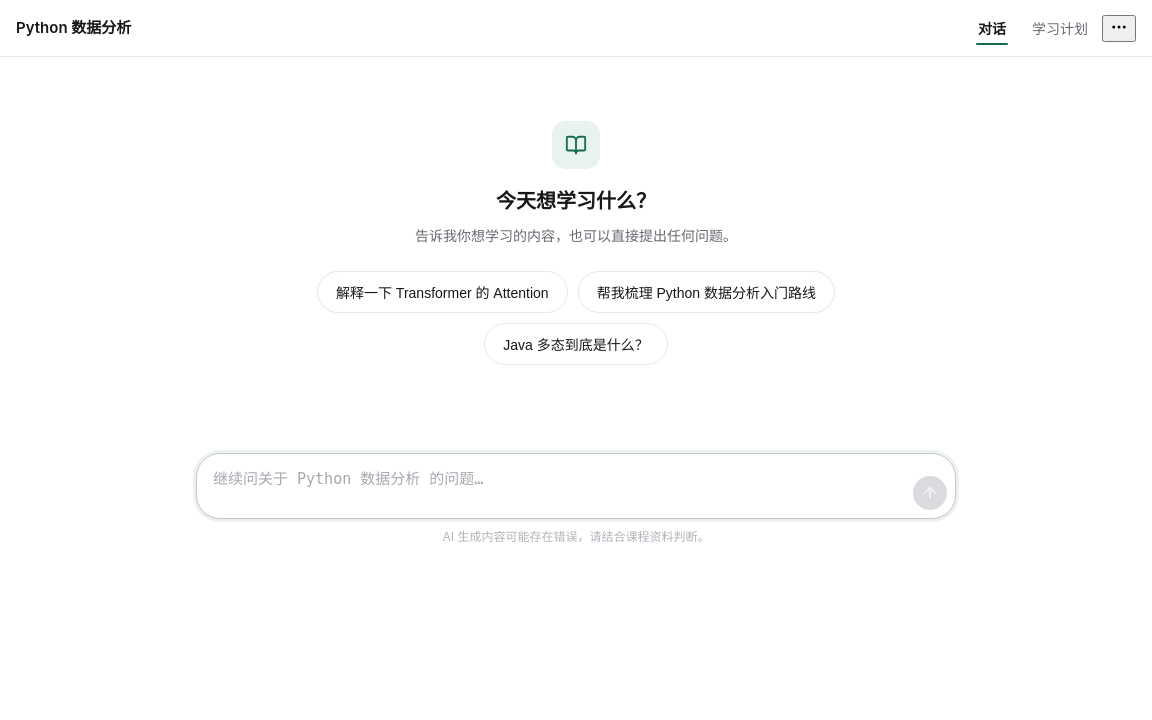
Scenario: ChatPage send / retry › conversation id from reply is used for subsequent sends
This screenshot has width=1152, height=720.
Type "你好" into the text box named "消息输入框" at (559, 486), box [213, 462, 905, 510]
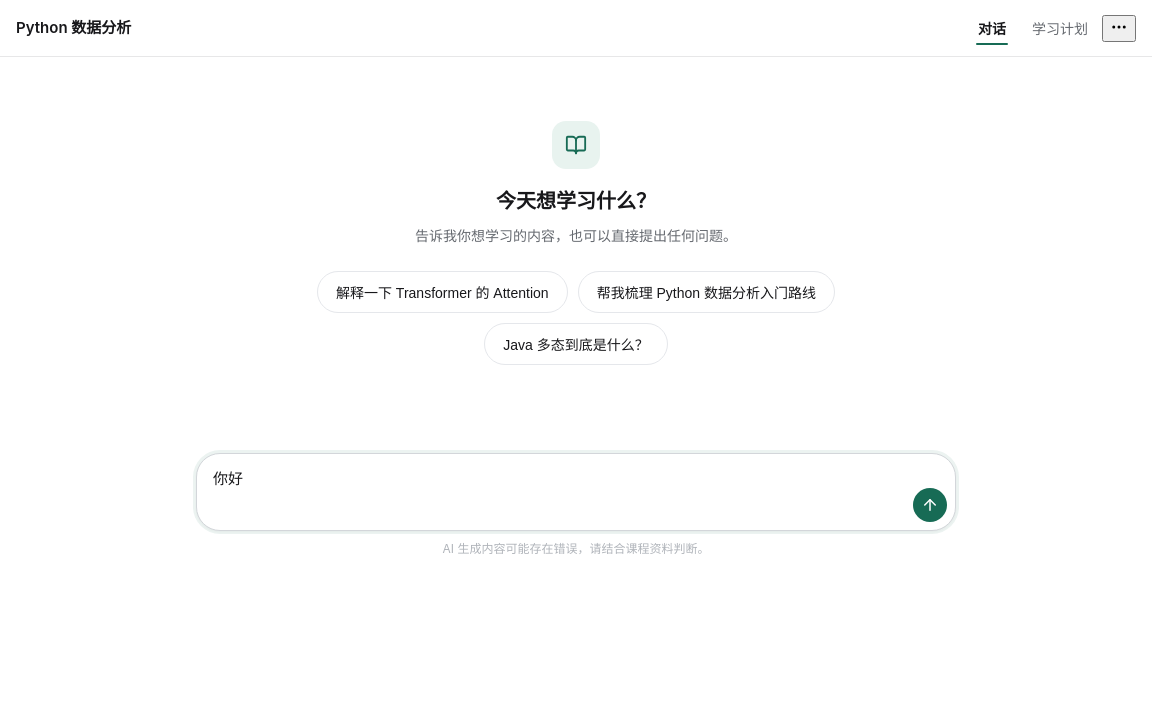
Click the button named "发送" at (930, 505), box [913, 488, 947, 522]
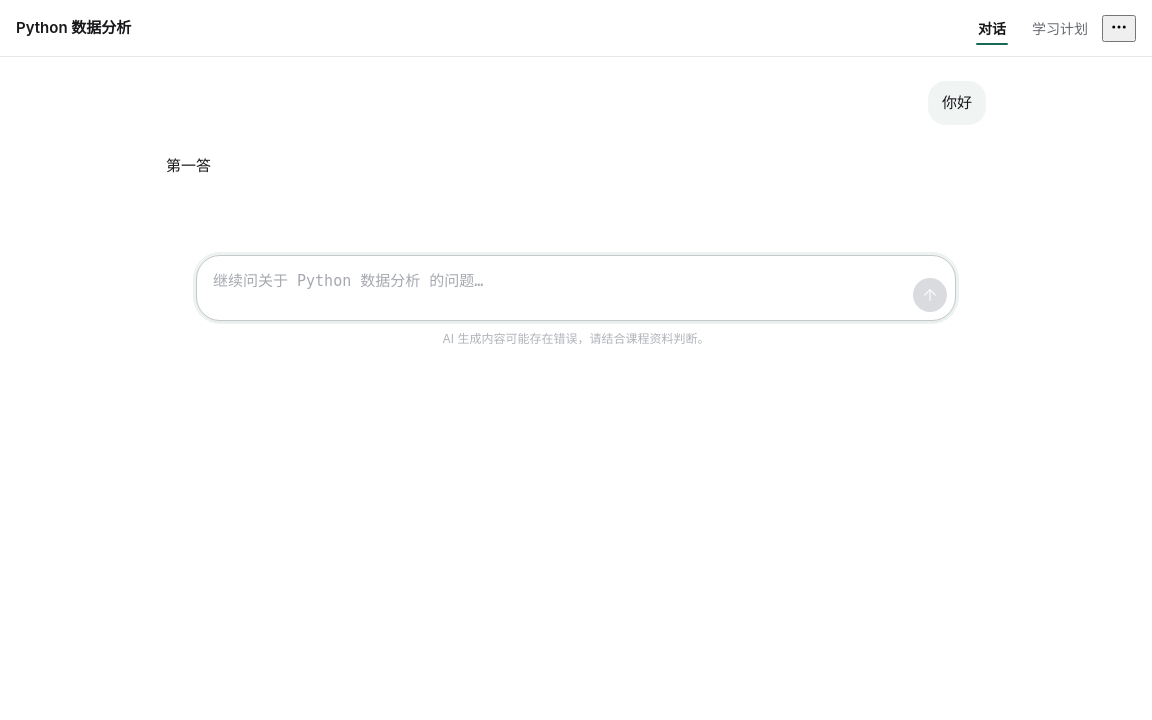
Check: the text "第一答" is shown, box [166, 156, 211, 175]
Type "继续" into the text box named "消息输入框" at (559, 288), box [213, 264, 905, 312]
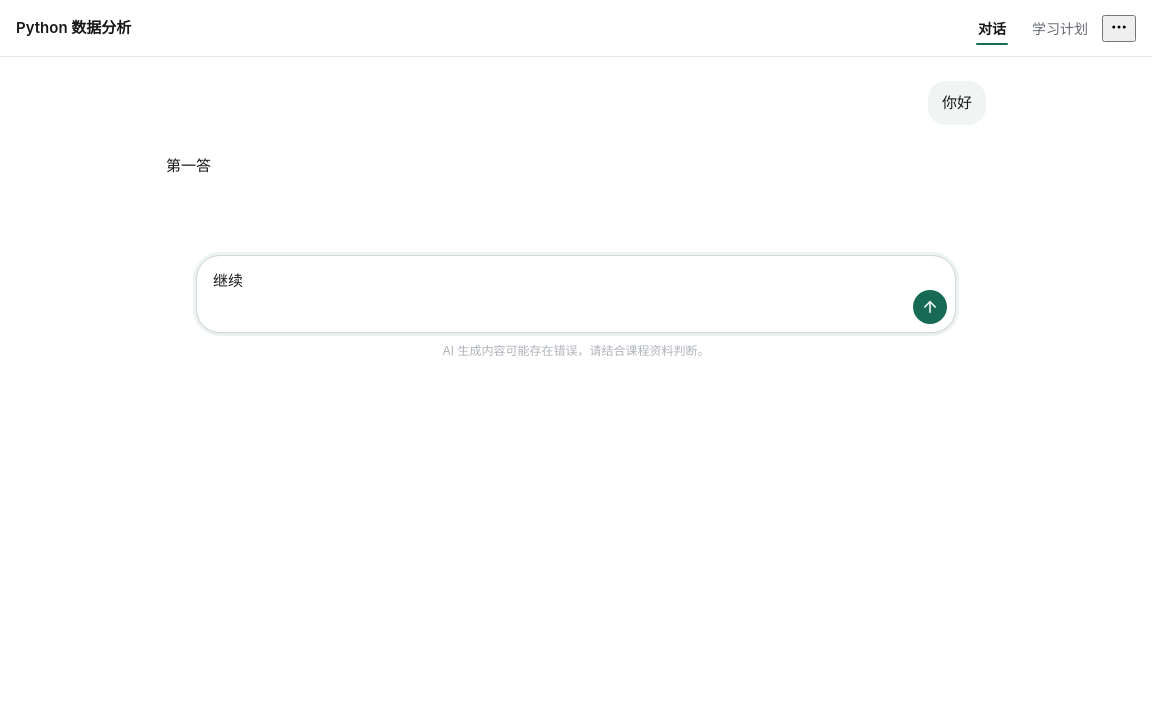
Click the button named "发送" at (930, 307), box [913, 290, 947, 324]
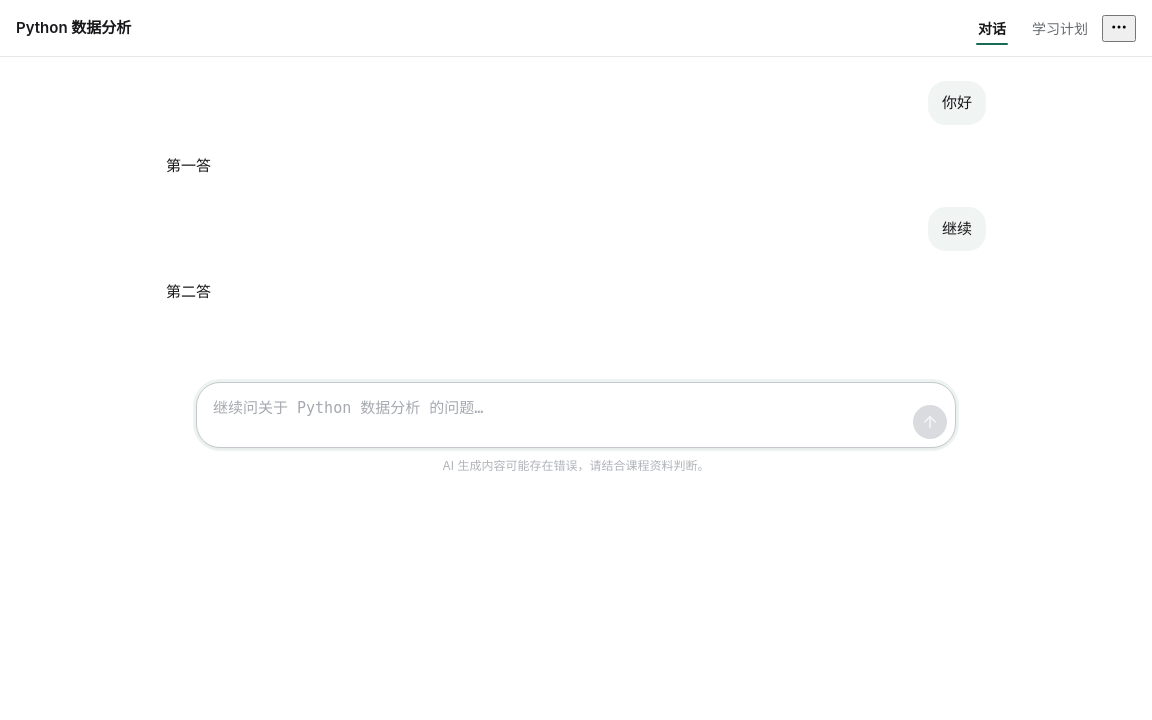
Check: the text "第二答" is shown, box [166, 282, 211, 301]
